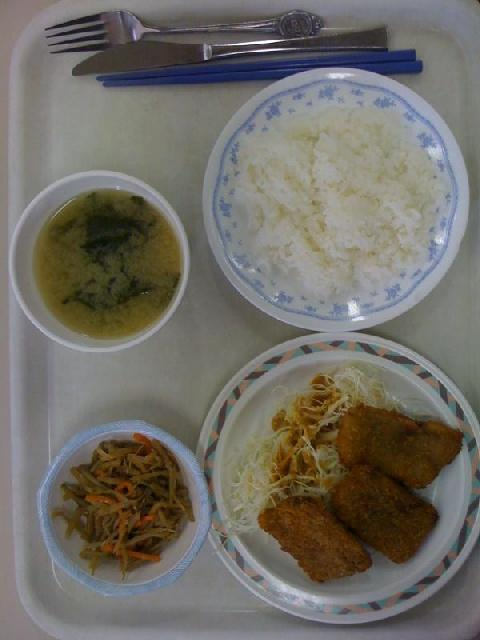plate: (204, 68, 469, 333)
rice: (233, 106, 444, 314)
